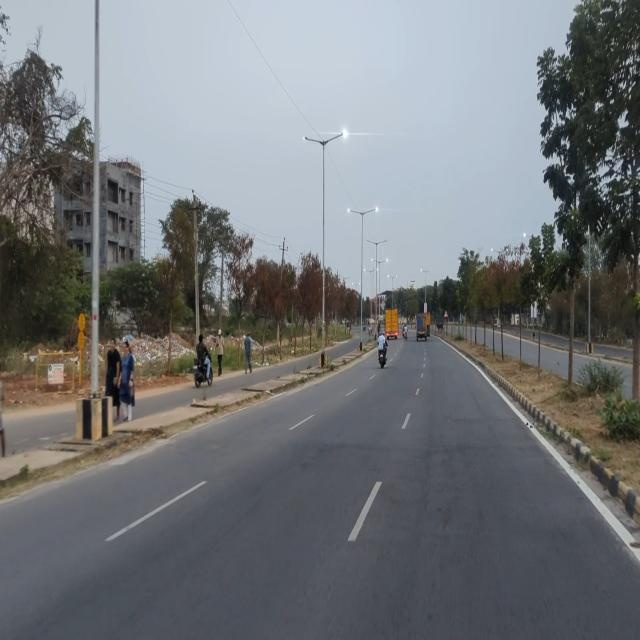bien_nguy_hiem: (443, 308, 449, 318)
